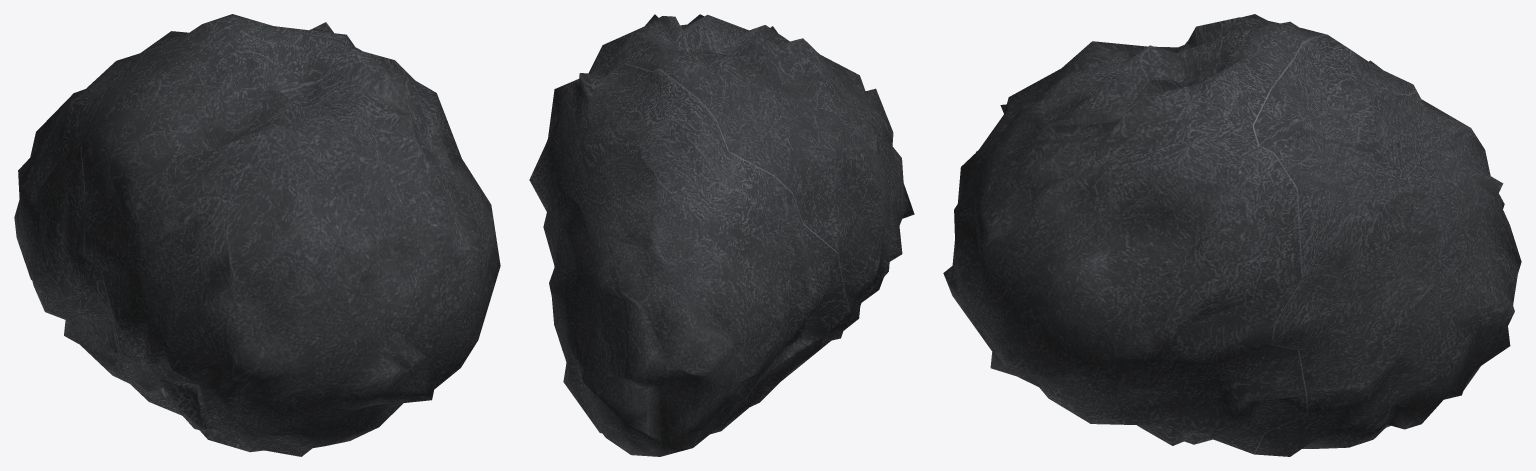
File: Comet.glb
The picture shows the model from 3 angles, left to right: view 1: azimuth 30°, elevation 25°; view 2: azimuth 150°, elevation 25°; view 3: azimuth 270°, elevation 25°; orthographic projection. The views are drawn at different scales.
Parts seen in each view (by area): view 1: Asteroid; view 2: Asteroid; view 3: Asteroid.
Part boxes in pixels (<box>): Asteroid: <box>14,14,500,456</box>; Asteroid: <box>529,14,914,456</box>; Asteroid: <box>943,14,1521,456</box>.
Bounding box in the file's own units: 2.25 × 2.47 × 3.14.
Materials: 1 (1 with a texture image).
